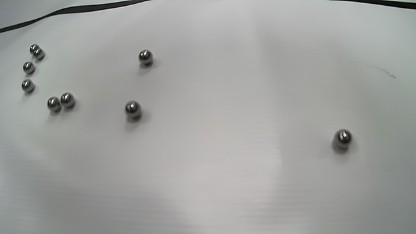ironball: (333, 129, 352, 149), (124, 100, 142, 119), (60, 92, 75, 108), (138, 49, 153, 65), (47, 96, 61, 112), (21, 79, 35, 93), (23, 61, 35, 74), (33, 48, 45, 60), (29, 44, 39, 55)
